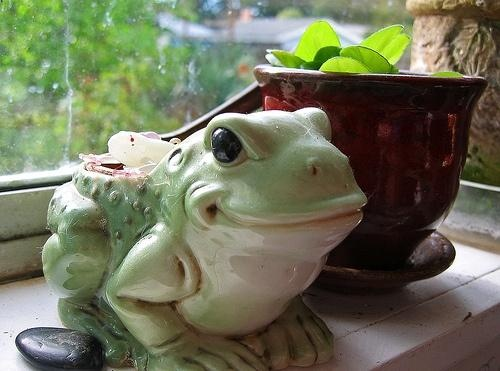pottedplant: (253, 20, 490, 297)
